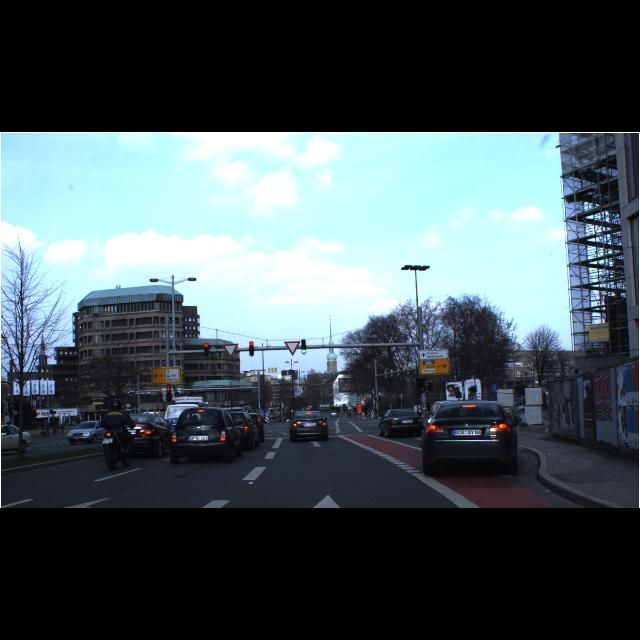other: (284, 340, 300, 356), (222, 343, 238, 359)
